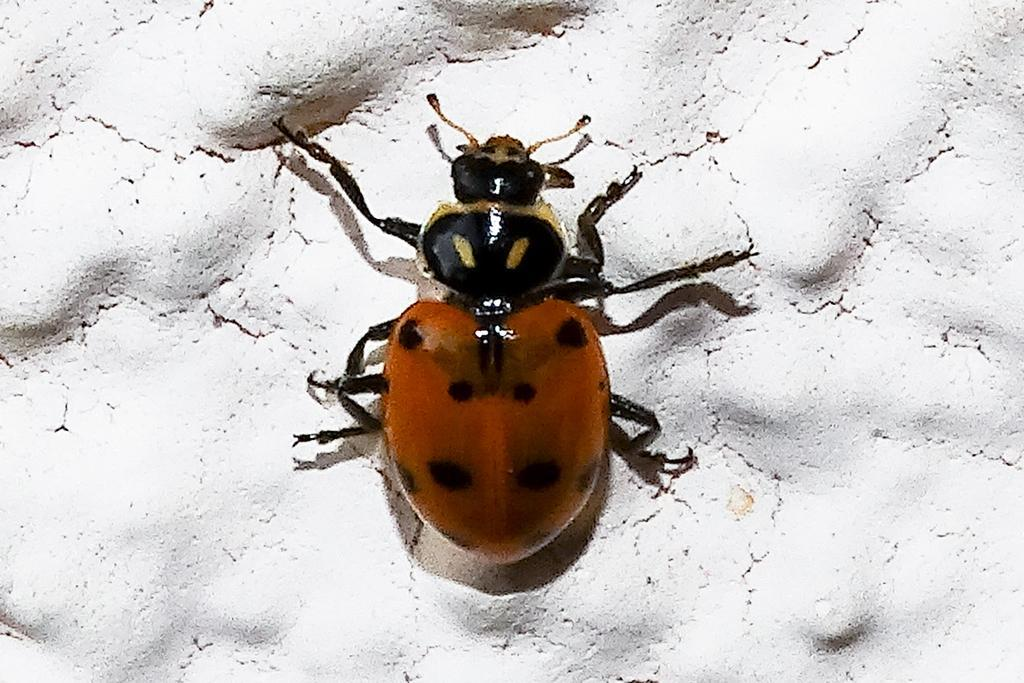ladybug: (269, 91, 765, 569)
